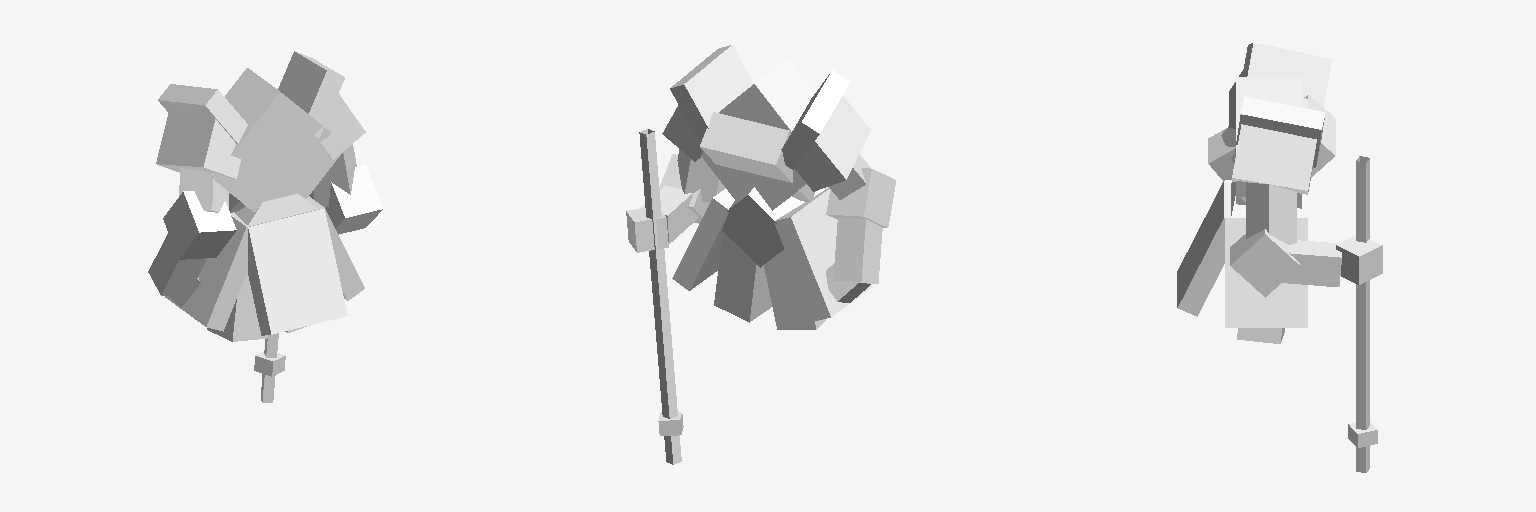
File: mt_object_armor_body.obj
3 renders of one model, left to right at view 1: azimuth 30°, elevation 25°; view 2: azimuth 150°, elevation 25°; view 3: azimuth 270°, elevation 25°, orthographic.
Parts seen in each view (by area): view 1: cube.000, cube, cube.005, cube.011, cube.015, cube.006, cube.001, cube.007, cube.017, cube.003, cube.004, cube.018 (+5 smaller); view 2: cube, cube.011, cube.019, cube.013, cube.006, cube.005, cube.002, cube.014, cube.017, cube.012, cube.003, cube.007 (+8 smaller); view 3: cube.012, cube.004, cube.000, cube.019, cube.007, cube.001, cube.008, cube.006, cube, cube.009, cube.010, cube.013 (+4 smaller).
Boxes of the visible parts, <box> form: cube.000: <box>248,208,347,335</box>; cube: <box>211,68,342,211</box>; cube.005: <box>156,111,240,178</box>; cube.011: <box>165,212,248,331</box>; cube.015: <box>163,191,236,259</box>; cube.006: <box>278,51,344,137</box>; cube.001: <box>311,164,382,234</box>; cube.007: <box>158,84,247,143</box>; cube.017: <box>148,233,206,295</box>; cube.003: <box>207,272,267,341</box>; cube.004: <box>321,94,365,159</box>; cube.018: <box>179,168,228,212</box>; cube: <box>701,60,813,210</box>; cube.011: <box>774,188,871,321</box>; cube.019: <box>639,129,681,464</box>; cube.013: <box>700,112,815,201</box>; cube.006: <box>670,45,753,143</box>; cube.005: <box>795,96,870,191</box>; cube.002: <box>714,233,771,322</box>; cube.014: <box>722,187,824,267</box>; cube.017: <box>833,218,882,283</box>; cube.012: <box>672,188,734,290</box>; cube.003: <box>764,249,825,329</box>; cube.007: <box>781,70,850,169</box>; cube.012: <box>1225,218,1307,327</box>; cube.004: <box>1232,124,1316,194</box>; cube.000: <box>1177,181,1230,316</box>; cube.019: <box>1356,156,1369,472</box>; cube.007: <box>1242,42,1331,108</box>; cube.001: <box>1230,229,1299,297</box>; cube.008: <box>1246,182,1296,244</box>; cube.006: <box>1235,97,1325,167</box>; cube: <box>1236,77,1301,208</box>; cube.009: <box>1282,240,1341,286</box>; cube.010: <box>1336,235,1382,284</box>; cube.013: <box>1241,94,1335,201</box>.
Bounding box in the file's own units: 1.34 × 2.36 × 1.16.